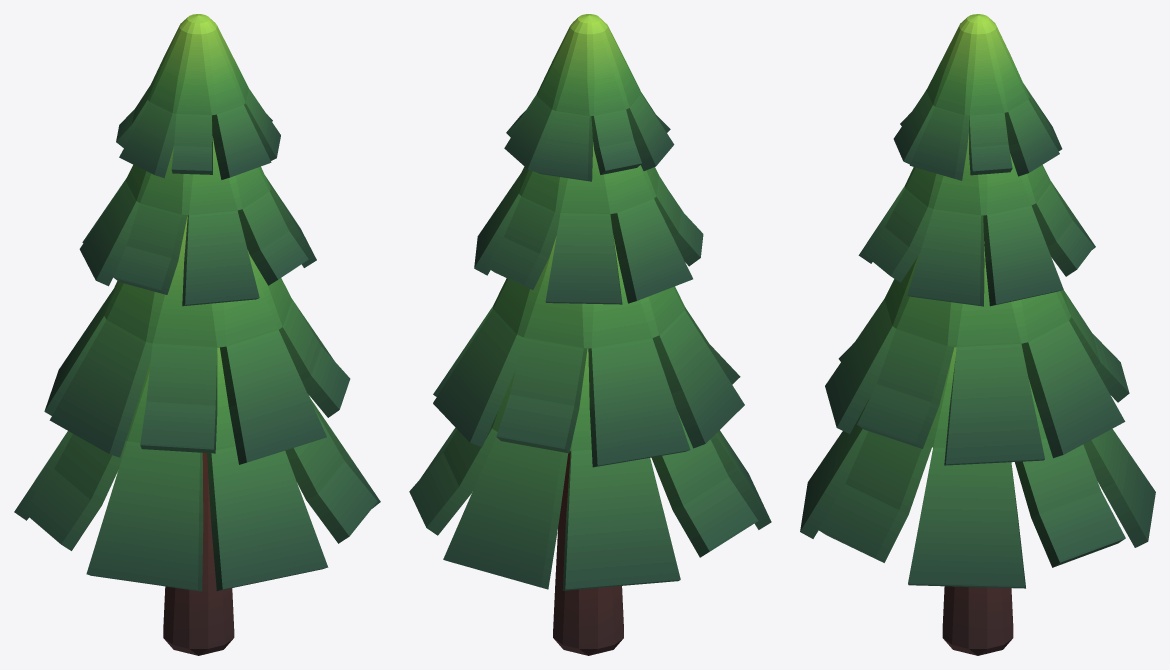
The model's file is kuusi1.fbx.
The picture shows the model from 3 angles, left to right: view 1: azimuth 30°, elevation 25°; view 2: azimuth 150°, elevation 25°; view 3: azimuth 270°, elevation 25°; orthographic projection.
Parts seen in each view (by area): view 1: Star.008; view 2: Star.008; view 3: Star.008.
Boxes of the visible parts, x1,y1,x2,y2 form: Star.008: (14,14,380,655); Star.008: (409,14,771,655); Star.008: (800,14,1155,655).
Size of the model in its own units: 3.23 by 6.3 by 3.23.
